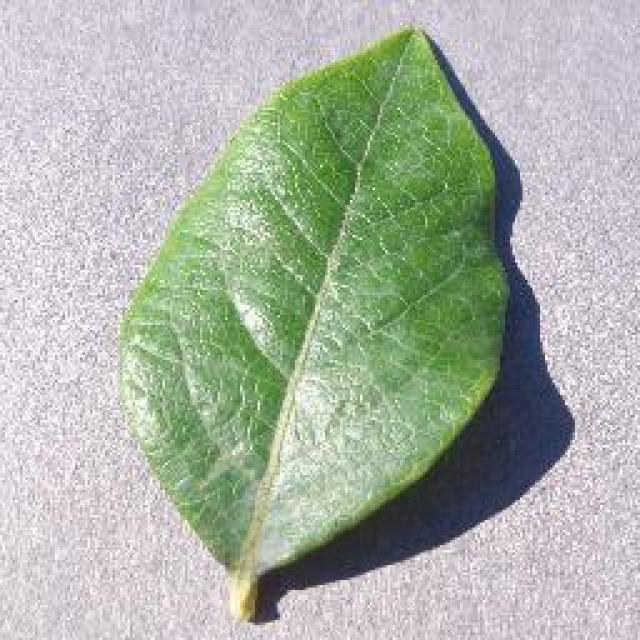Blu_healthy: (158, 98, 502, 522)
